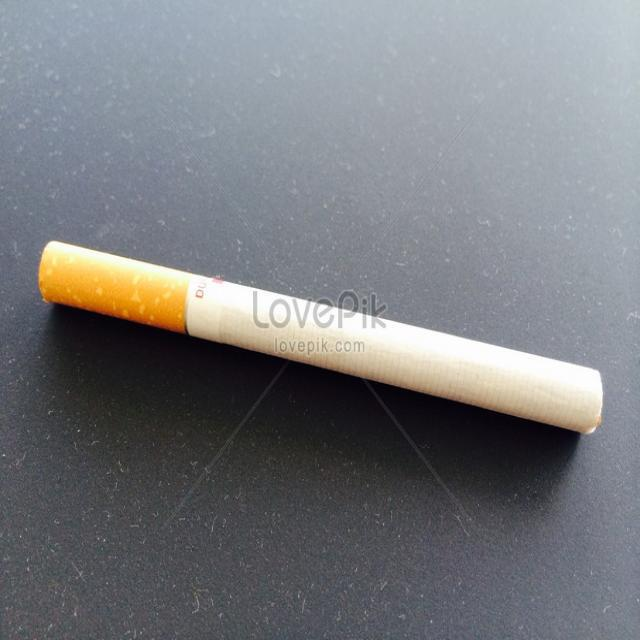cigarette: (26, 210, 609, 460)
